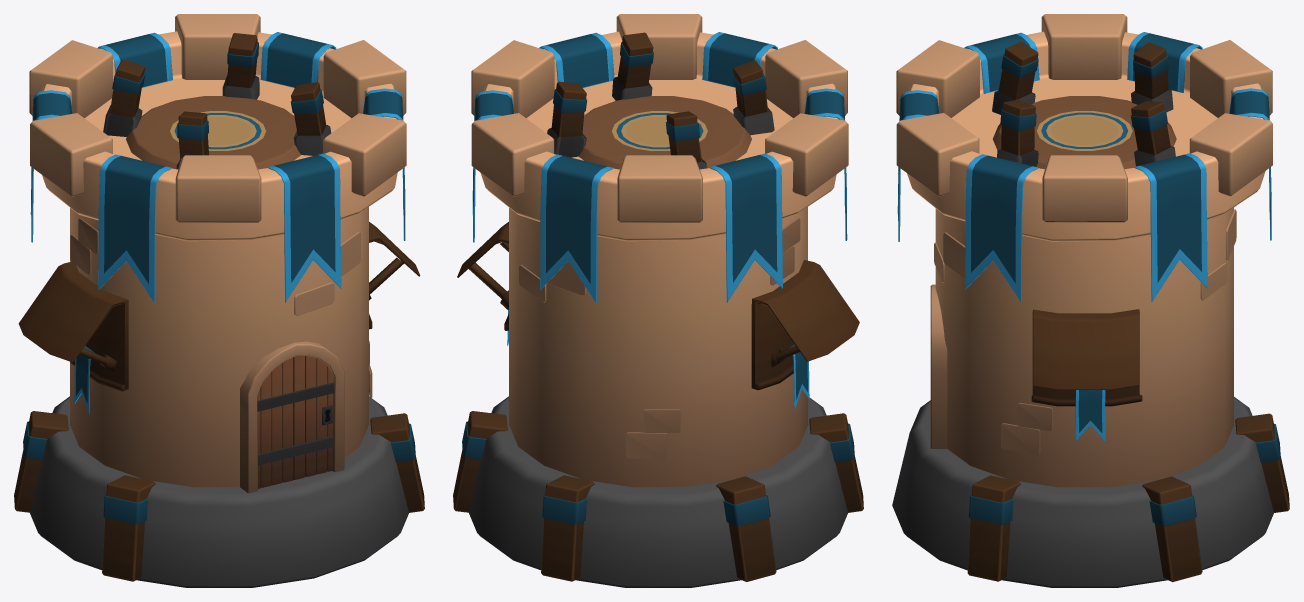
The model's file is TowerWatch_3.fbx.
3 views of the same model, side by side, from view 1: azimuth 30°, elevation 25°; view 2: azimuth 150°, elevation 25°; view 3: azimuth 270°, elevation 25° (orthographic).
Visible parts, largest first — view 1: TowerWatch_3; view 2: TowerWatch_3; view 3: TowerWatch_3.
Boxes of the visible parts, x1,y1,x2,y2 form: TowerWatch_3: (14, 14, 424, 587); TowerWatch_3: (453, 14, 863, 587); TowerWatch_3: (892, 14, 1289, 587).
Bounding box in the file's own units: 302 × 342 × 284.
